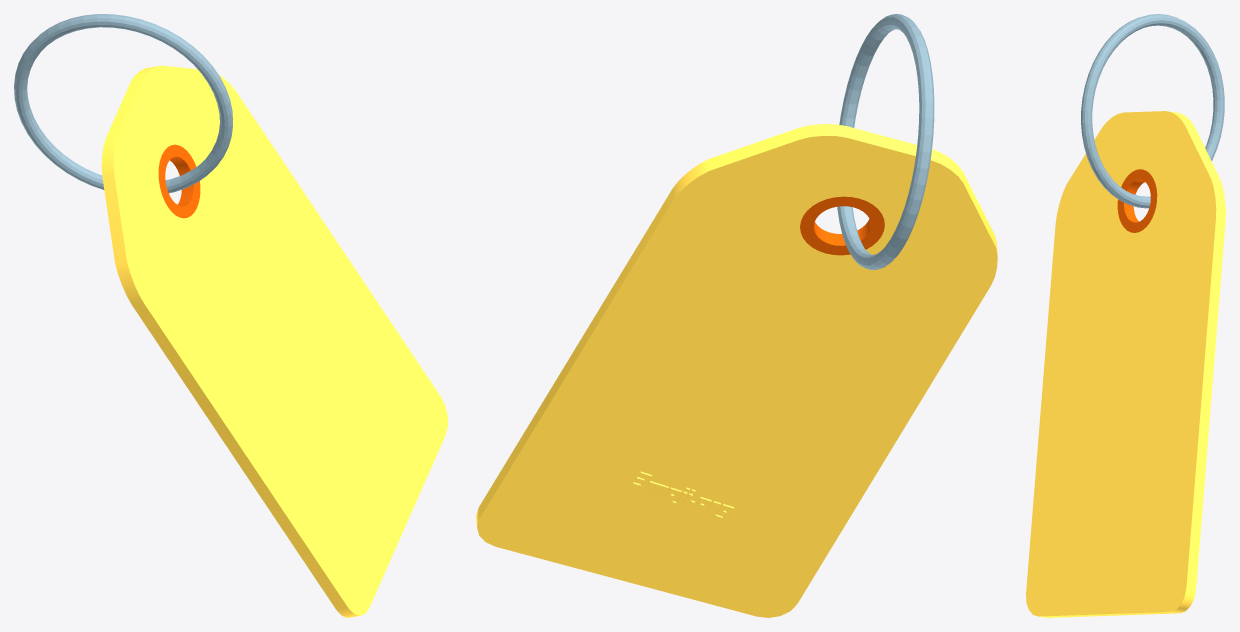
File: label.gltf
3 renders of one model, left to right at view 1: azimuth 30°, elevation 25°; view 2: azimuth 150°, elevation 25°; view 3: azimuth 270°, elevation 25°, orthographic. The views are drawn at different scales.
Parts seen in each view (by area): view 1: Circle.2560; view 2: Circle.2560; view 3: Circle.2560.
Boxes of the visible parts, box(x1,y1,x2,y2) form: Circle.2560: box(14, 14, 447, 617); Circle.2560: box(476, 14, 997, 617); Circle.2560: box(1026, 14, 1225, 617).
Bounding box in the file's own units: 1.66 × 2.32 × 0.8068.
1 material, 1 textured.
